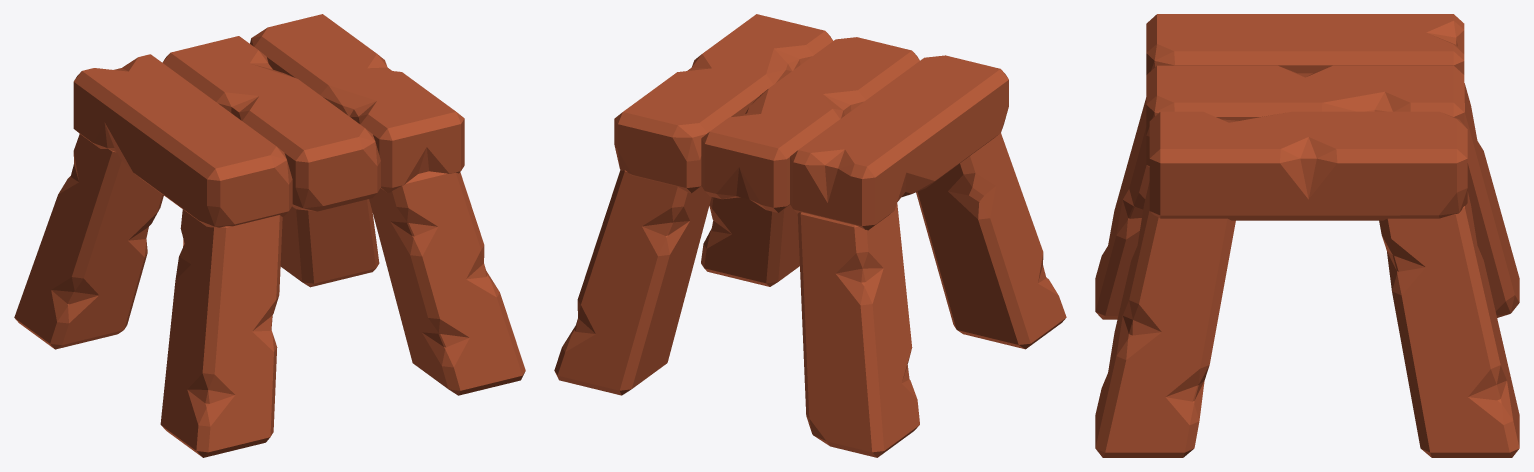
Rendered from chair.fbx.
The picture shows the model from 3 angles, left to right: view 1: azimuth 30°, elevation 25°; view 2: azimuth 150°, elevation 25°; view 3: azimuth 270°, elevation 25°; orthographic projection. The views are drawn at different scales.
Visible parts, largest first — view 1: Cube.024, Cube.023; view 2: Cube.024, Cube.023; view 3: Cube.023, Cube.024.
Boxes of the visible parts, x1,y1,x2,y2 form: Cube.024: (14,134,525,457); Cube.023: (73,14,464,227); Cube.024: (554,133,1066,457); Cube.023: (614,14,1008,230); Cube.023: (1146,14,1467,220); Cube.024: (1095,83,1519,457).
Size of the model in its own units: 227 by 173 by 228.
